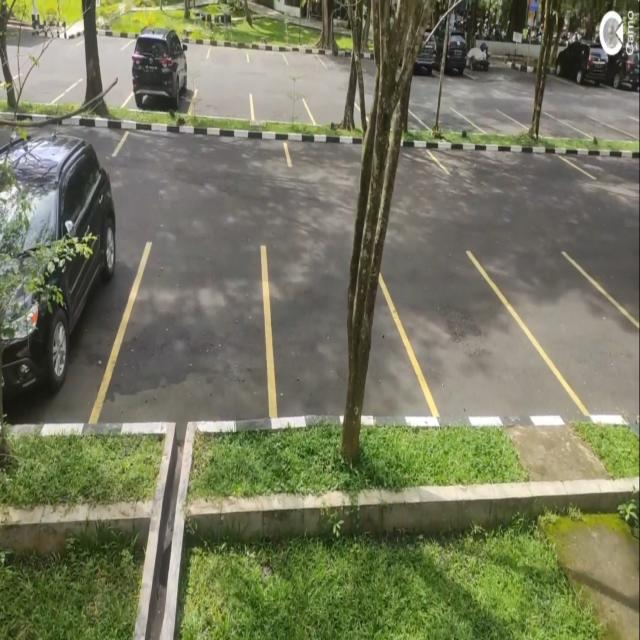empty: (126, 240, 272, 424), (263, 245, 409, 417), (398, 242, 532, 416), (523, 252, 640, 418), (112, 119, 292, 168), (250, 92, 312, 125), (192, 88, 253, 121)
occupied: (0, 184, 127, 425), (124, 31, 194, 114)
